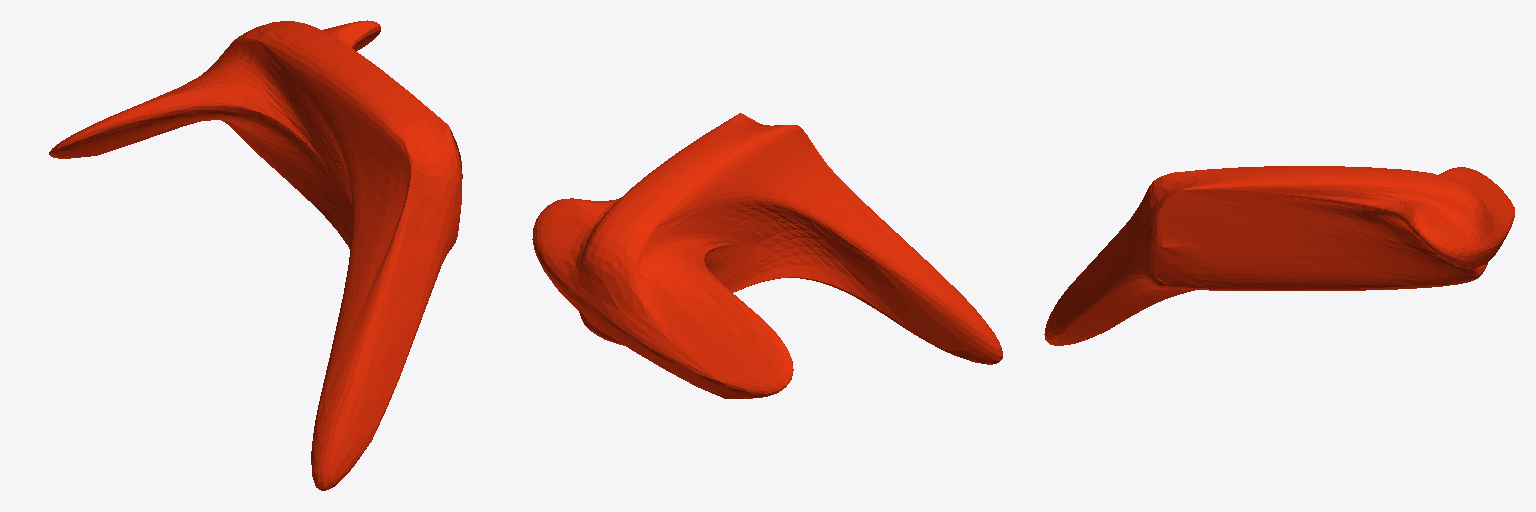
The robot description file, URDF, robot "blob522":

<robot name="blob522">
  <link name="random_obj_522">
    <contact>
      <lateral_friction value="1.0"/>
      <rolling_friction value="0.0"/>
      <inertia_scaling value="3.0"/>
      <contact_cfm value="0.0"/>
      <contact_erp value="1.0"/>
    </contact>
    <inertial>
      <origin rpy="0 0 0" xyz="0 0 0"/>
      <mass value="0.0590"/>
      <inertia ixx="1" ixy="0" ixz="0" iyy="1" iyz="0" izz="0"/>
    </inertial>
    <visual>
      <origin rpy="0 0 0" xyz="0 0 0"/>
      <geometry>
        <mesh filename="522.obj" scale="0.0076 0.0076 0.0076"/>
      </geometry>
      <material name="blockmat">
        <color rgba="0.90 0.23 0.08 1"/>
      </material>
    </visual>
    <collision>
      <origin rpy="0 0 0" xyz="0 0 0"/>
      <geometry>
        <mesh filename="522_coll.obj" scale="0.0076 0.0076 0.0076"/>
      </geometry>
    </collision>
  </link>
</robot>

--- Facts derived from the render (not from the file) ---
The picture shows the robot from 3 angles, left to right: view 1: azimuth 30°, elevation 25°; view 2: azimuth 150°, elevation 25°; view 3: azimuth 270°, elevation 25°; orthographic projection.
Robot: blob522 — 1 links, 0 joints (none); root link random_obj_522; default pose: all joints at 0.
Links seen in each view (by area): view 1: random_obj_522; view 2: random_obj_522; view 3: random_obj_522.
Boxes of the visible links, x1,y1,x2,y2 form: random_obj_522: (49, 20, 462, 490); random_obj_522: (532, 113, 1002, 398); random_obj_522: (1044, 166, 1514, 345).
Bounding box of the posed robot: 0.0834 × 0.1279 × 0.0744 m (x, y, z).
Meshes: 1 distinct files referenced, 1 mesh visuals loaded (1 OBJ).
